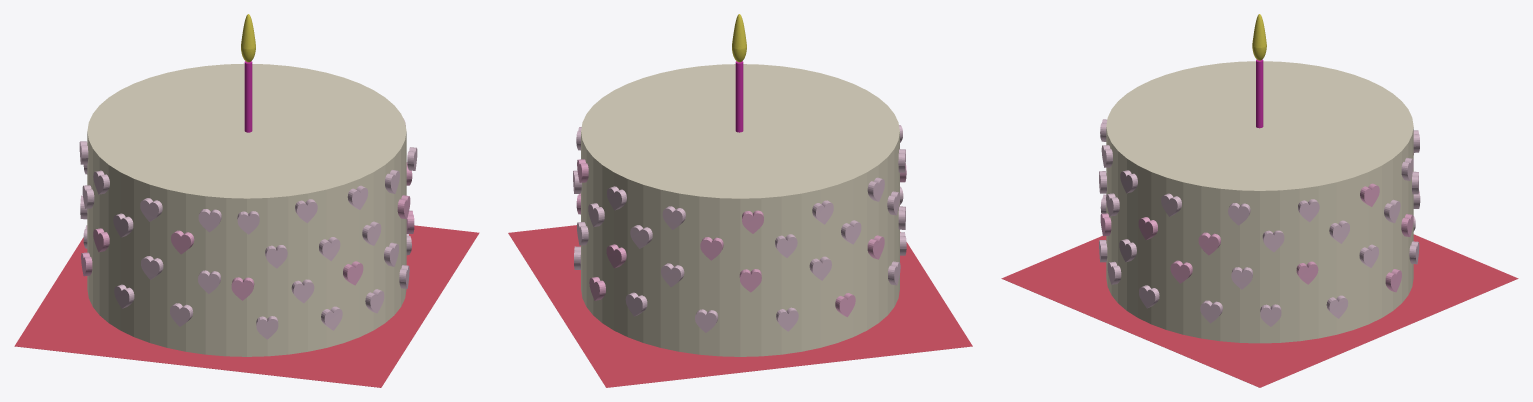
Rendered from ube.glb.
3 renders of one model, left to right at view 1: azimuth 30°, elevation 25°; view 2: azimuth 150°, elevation 25°; view 3: azimuth 270°, elevation 25°, orthographic. The views are drawn at different scales.
Parts seen in each view (by area): view 1: Mesh_Mesh_head_geo.001_lambert2SG.001; view 2: Mesh_Mesh_head_geo.001_lambert2SG.001; view 3: Mesh_Mesh_head_geo.001_lambert2SG.001.
Boxes of the visible parts, x1,y1,x2,y2 form: Mesh_Mesh_head_geo.001_lambert2SG.001: (14, 14, 479, 387); Mesh_Mesh_head_geo.001_lambert2SG.001: (508, 14, 972, 387); Mesh_Mesh_head_geo.001_lambert2SG.001: (1001, 14, 1518, 387).
Size of the model in its own units: 0.0354 by 0.02 by 0.0354.
